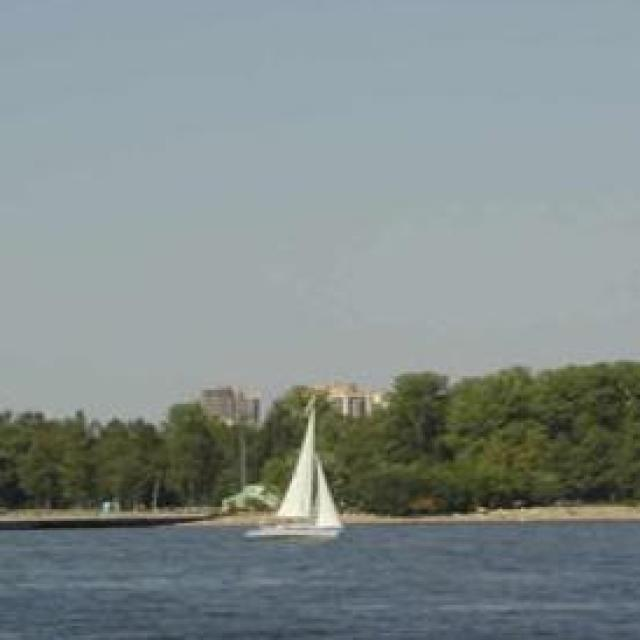sailboat: (242, 398, 347, 543)
